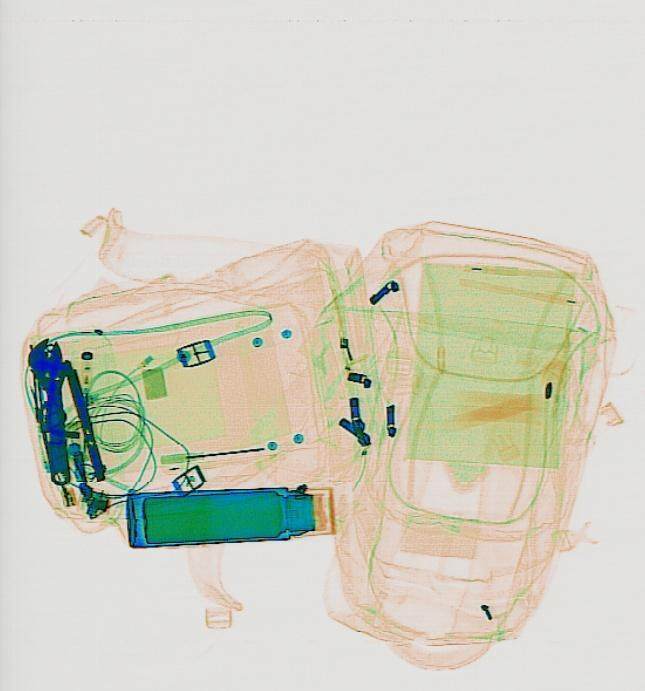Wrench: (23, 335, 78, 486)
